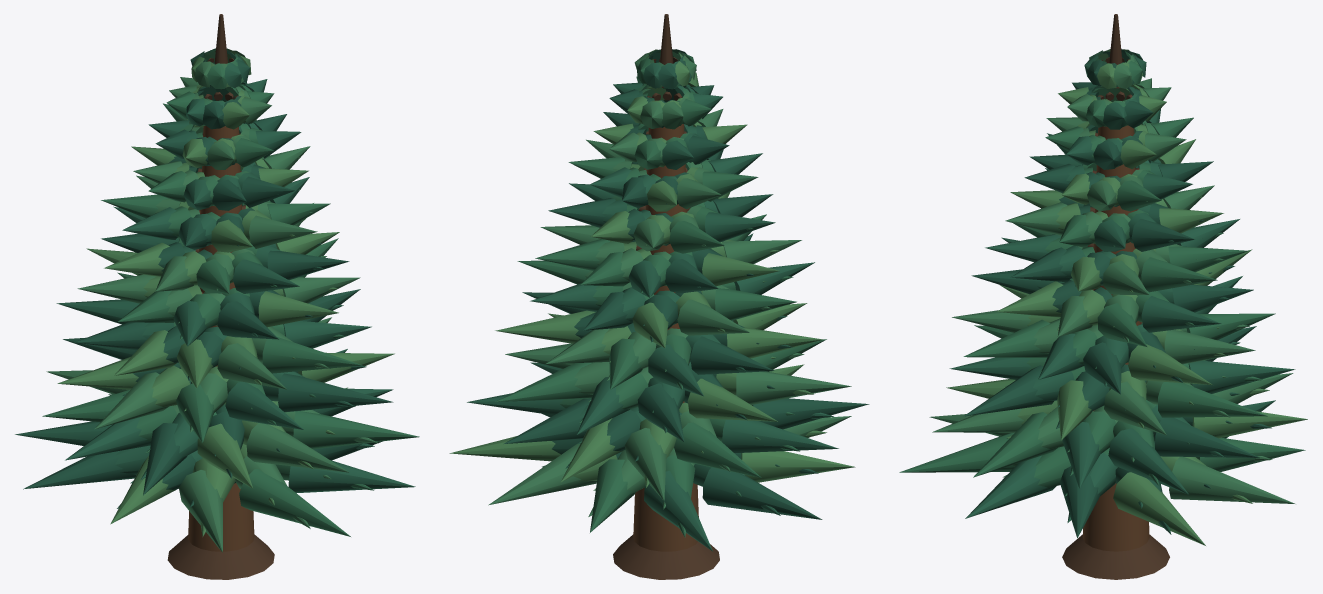
File: pine_l03.glb
3 renders of one model, left to right at view 1: azimuth 30°, elevation 25°; view 2: azimuth 150°, elevation 25°; view 3: azimuth 270°, elevation 25°, orthographic.
Parts seen in each view (by area): view 1: needle_sprays_4, needle_sprays_5, needle_sprays_3, needle_sprays_2, needle_sprays_1, tapered_trunk, root_flare; view 2: needle_sprays_2, needle_sprays_5, needle_sprays_1, needle_sprays_3, needle_sprays_4, tapered_trunk, root_flare; view 3: needle_sprays_3, needle_sprays_4, needle_sprays_2, needle_sprays_1, needle_sprays_5, tapered_trunk, root_flare.
Boxes of the visible parts, x1,y1,x2,y2 form: needle_sprays_4: (15,48,415,493); needle_sprays_5: (23,50,393,508); needle_sprays_3: (42,48,419,536); needle_sprays_2: (46,50,378,552); needle_sprays_1: (57,49,394,536); tapered_trunk: (188,125,254,551); root_flare: (167,534,274,579); needle_sprays_2: (488,51,851,516); needle_sprays_5: (504,50,869,519); needle_sprays_1: (449,49,855,490); needle_sprays_3: (495,49,826,537); needle_sprays_4: (467,49,838,551); tapered_trunk: (633,124,698,551); root_flare: (613,534,719,579); needle_sprays_3: (899,50,1305,496); needle_sprays_4: (949,50,1295,522); needle_sprays_2: (929,49,1294,503); needle_sprays_1: (946,49,1307,545); needle_sprays_5: (963,49,1271,537); tapered_trunk: (1082,125,1149,551); root_flare: (1062,534,1169,579).
Bounding box in the file's own units: 2.41 × 3.57 × 2.45.
